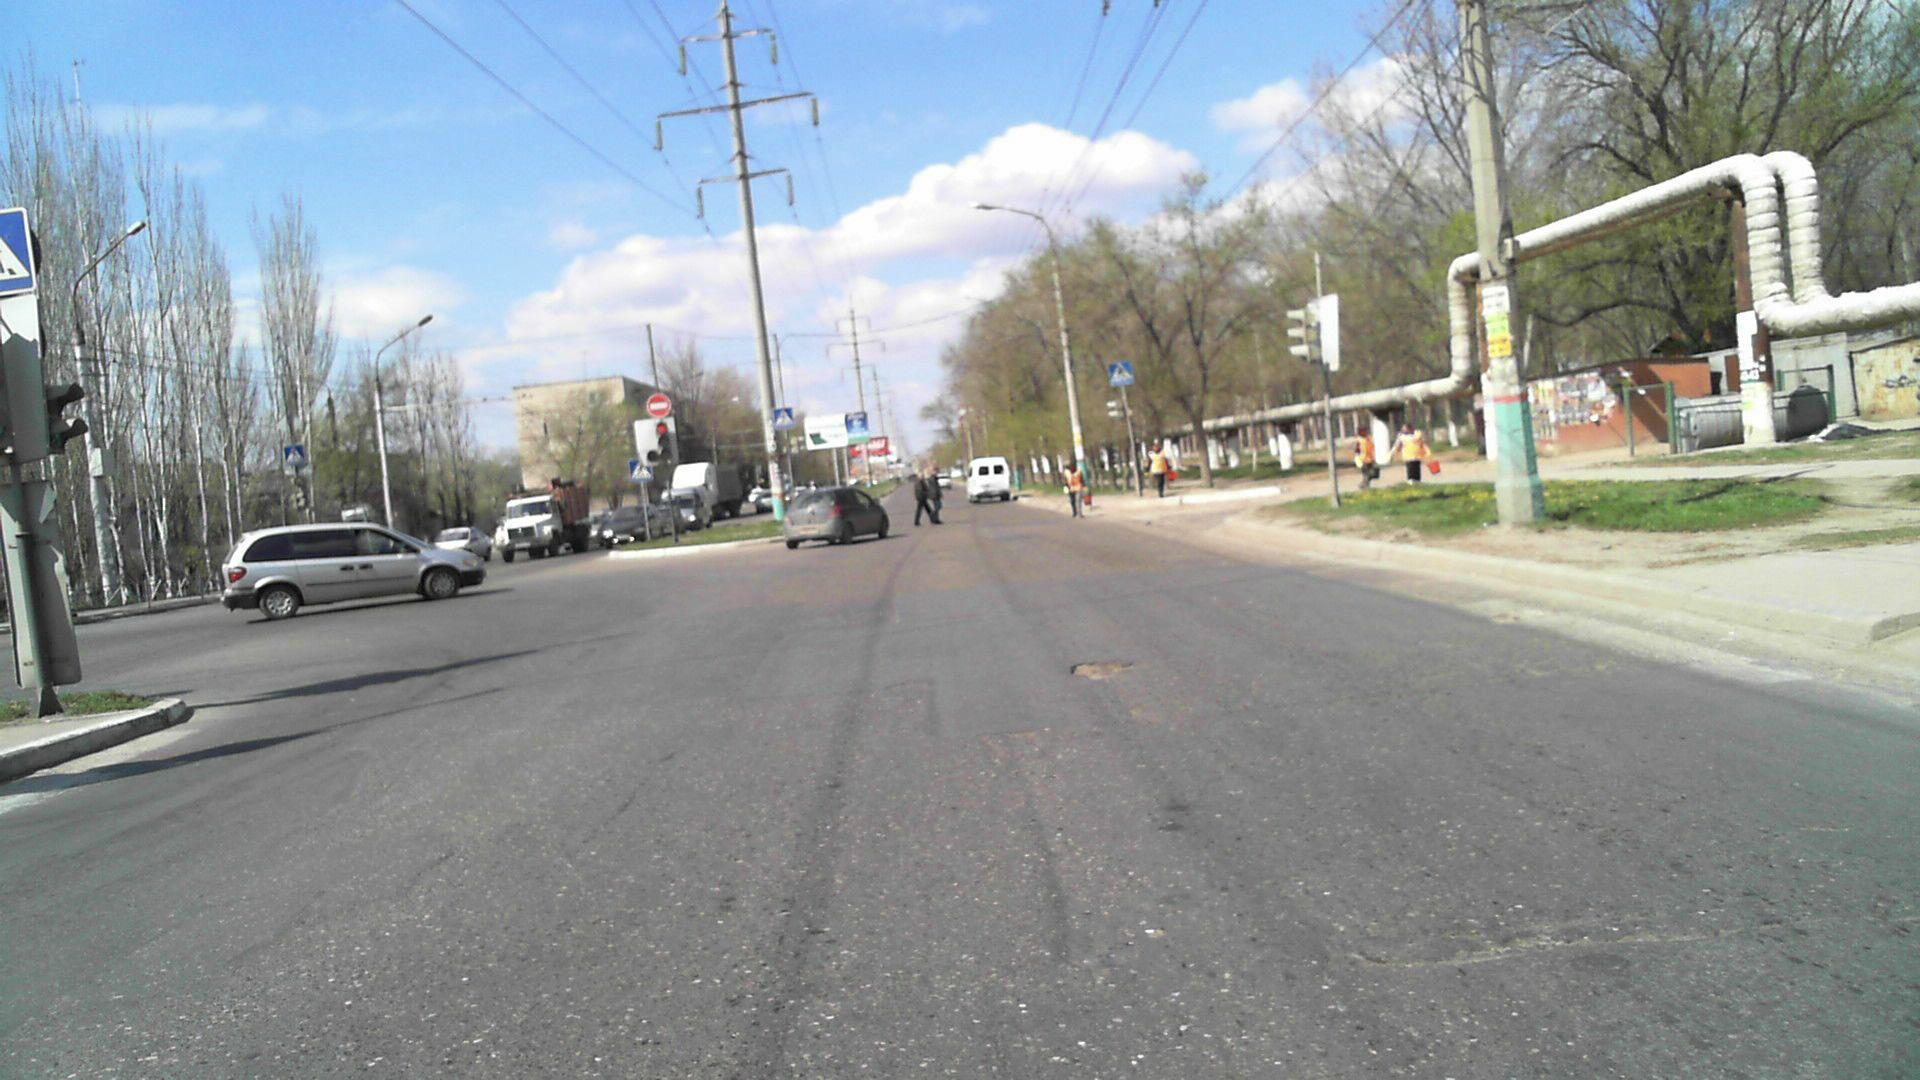3_1: (645, 393, 669, 419)
5_19_1: (1108, 356, 1134, 388), (773, 407, 795, 431), (632, 462, 649, 481)
5_19_2: (0, 206, 44, 301), (284, 443, 307, 467)
